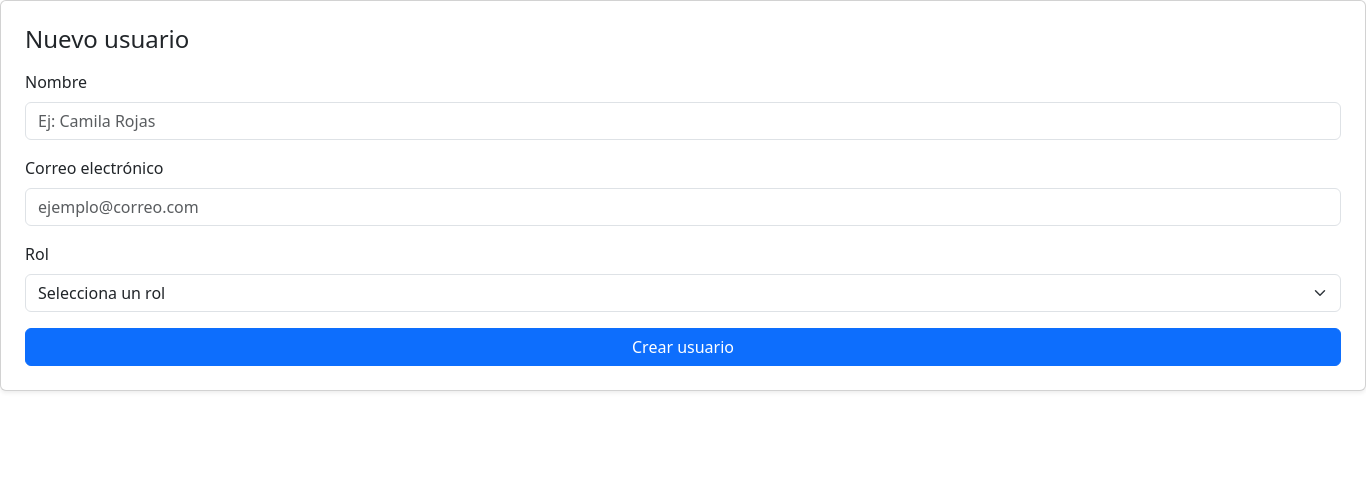
Test: UserForm › modo crear › muestra los errores y no envía si el formulario está vacío
This screenshot has width=1366, height=485.
Click the button "Crear usuario": (683, 347) x1=25 y1=328 x2=1341 y2=366
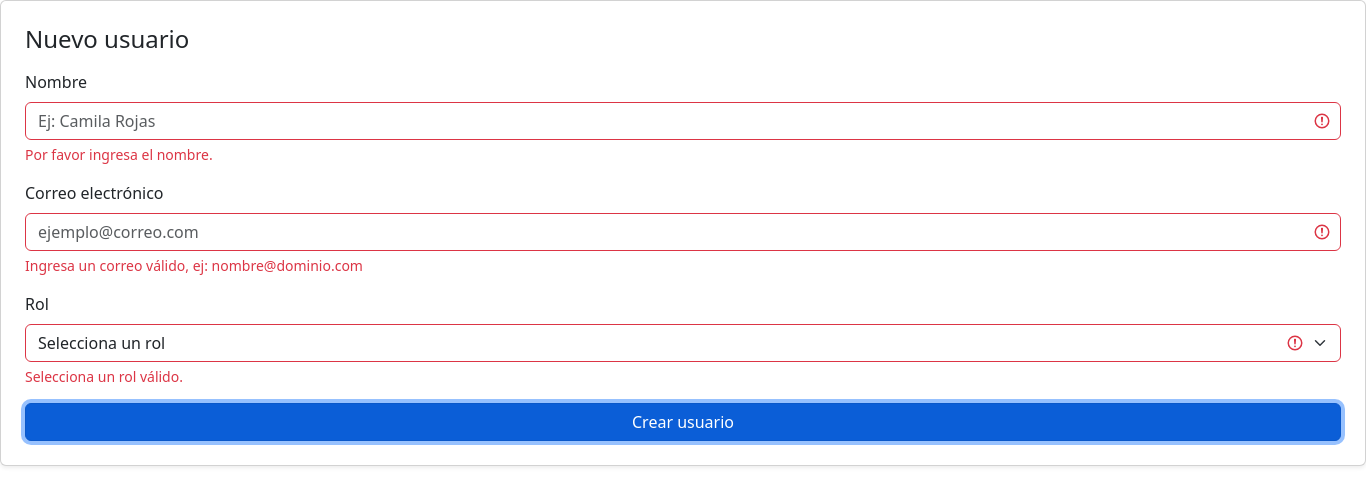
Result: the text "Por favor ingresa el nombre." is shown at x1=25 y1=145 x2=213 y2=164
Result: the text "Ingresa un correo válido, ej: nombre@dominio.com" is shown at x1=25 y1=256 x2=363 y2=275
Result: the text "Selecciona un rol válido." is shown at x1=25 y1=367 x2=183 y2=386
